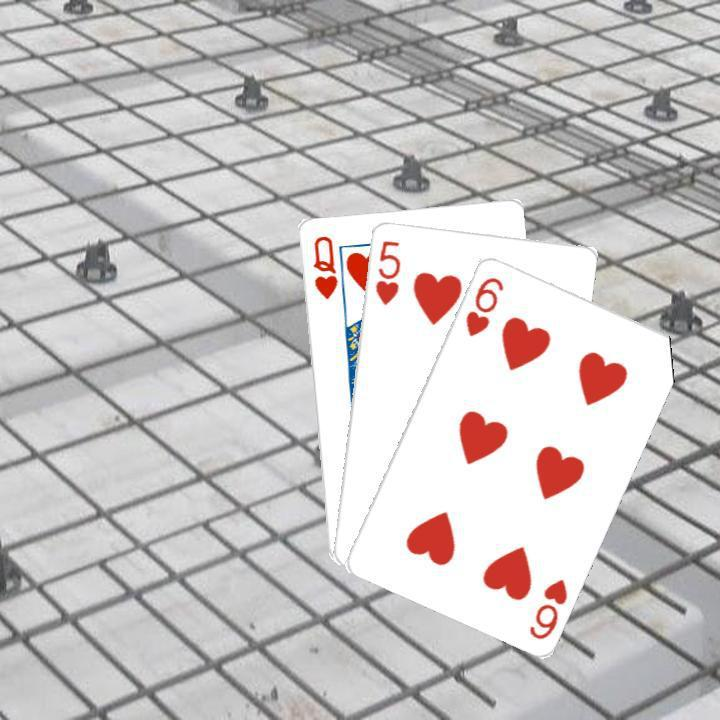5: (370, 236, 402, 307)
6: (460, 272, 506, 338), (524, 574, 569, 641)
Q: (308, 231, 339, 301)
